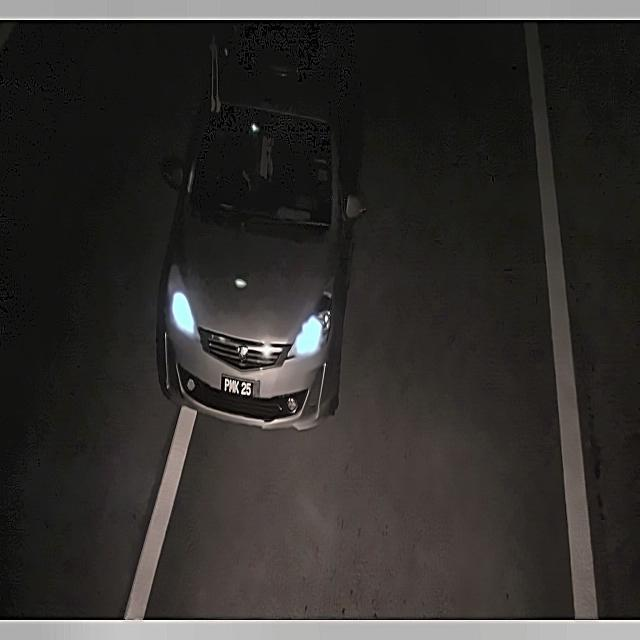car: (218, 369, 260, 405)
